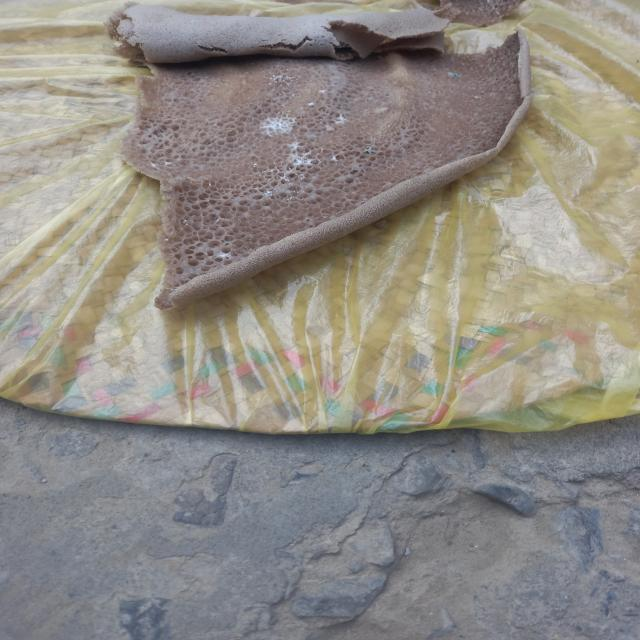injera_mold: (283, 143, 322, 168), (260, 116, 300, 134), (270, 70, 298, 87), (267, 168, 294, 184), (213, 248, 239, 261), (332, 111, 347, 126), (257, 188, 280, 197), (364, 142, 374, 156), (445, 71, 462, 79), (147, 162, 162, 170), (328, 155, 340, 163), (181, 217, 189, 228), (307, 100, 315, 108), (165, 159, 172, 168), (298, 172, 305, 181), (284, 196, 295, 201), (252, 162, 261, 168), (256, 170, 262, 178), (271, 184, 285, 187), (291, 189, 301, 193), (320, 89, 328, 94), (192, 20, 200, 25), (290, 94, 296, 98), (276, 112, 283, 115)
